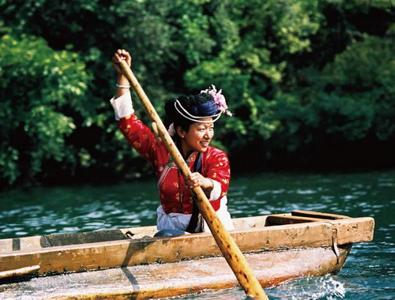person: (113, 50, 235, 238)
